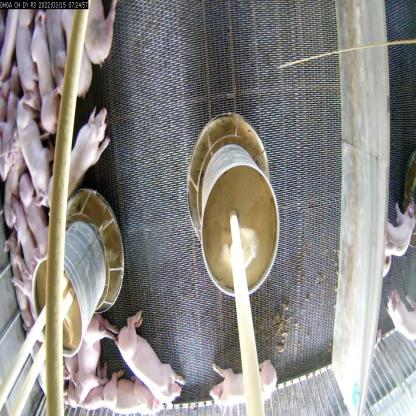Pig: (107, 304, 191, 416), (50, 104, 110, 230), (13, 93, 63, 235), (208, 352, 282, 416), (29, 22, 62, 136), (23, 172, 52, 288), (76, 0, 122, 71), (73, 307, 104, 397), (5, 235, 27, 326)
